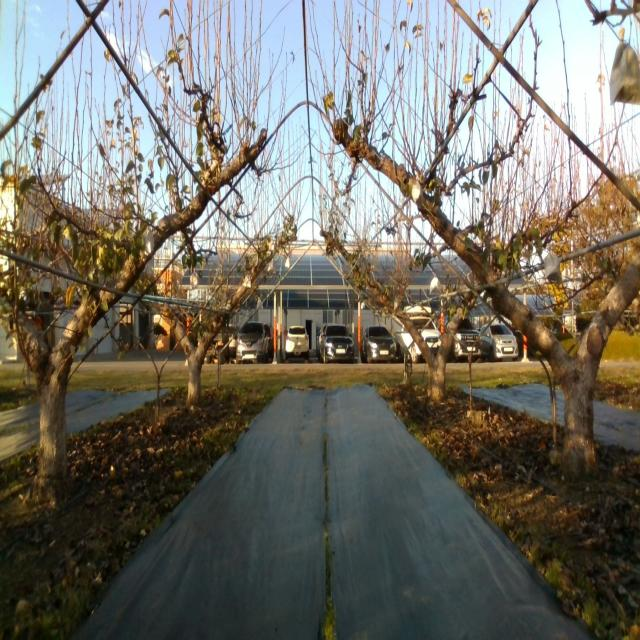pearbags: (609, 39, 640, 105), (544, 249, 562, 282), (430, 276, 442, 296)
